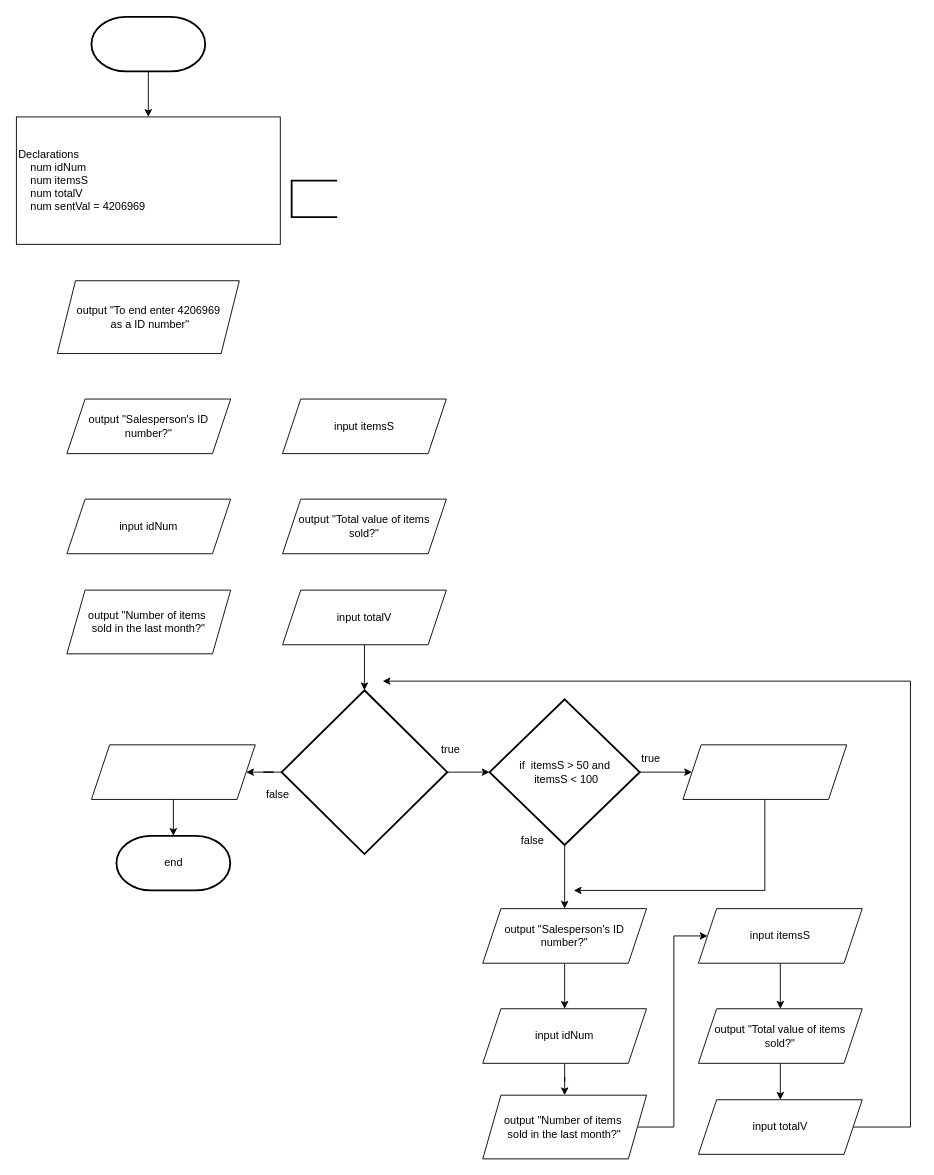
The diagram is 934 pixels wide and 1175 high, and some of its shapes have lost their labels. The shapes that lost their labels are listed below. From the top down, each one's box as (x1, y1, x2, y2) in pixels, then its label:
(90, 15, 206, 72): Start
(290, 179, 338, 217): //their is some clarification in pseudo code
(91, 744, 255, 799): output "Program ended"
(280, 689, 448, 854): while idNum != 4206969
(682, 744, 847, 799): output idNum
